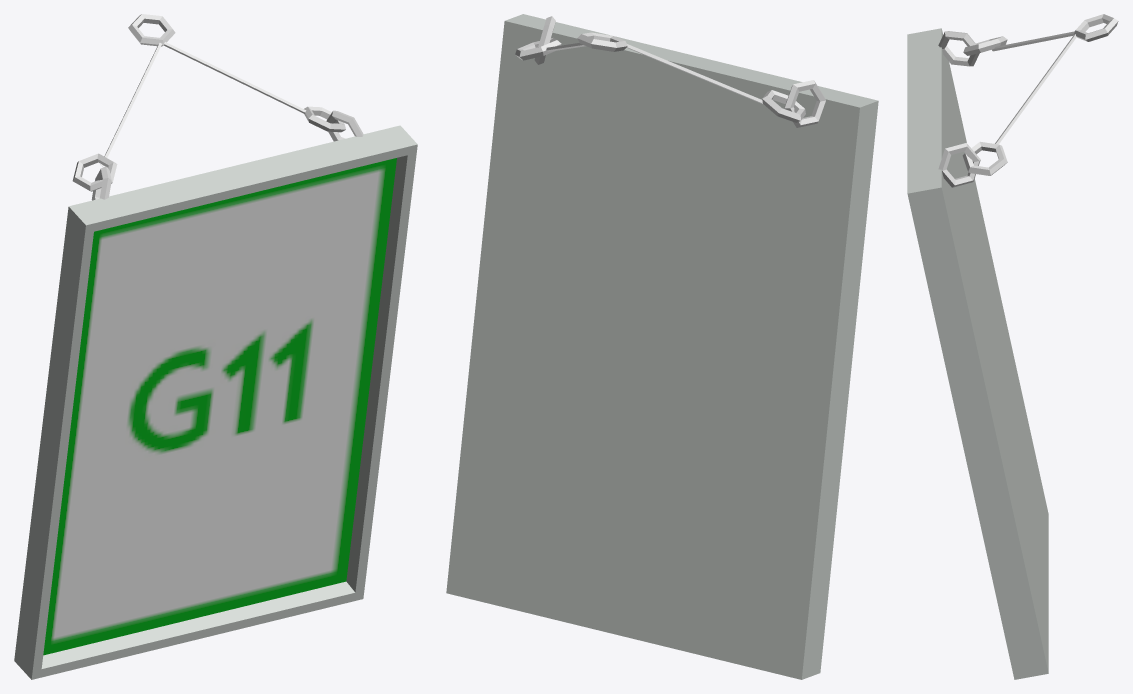
3 renders of one model, left to right at view 1: azimuth 30°, elevation 25°; view 2: azimuth 150°, elevation 25°; view 3: azimuth 270°, elevation 25°, orthographic. The views are drawn at different scales.
Visible parts, largest first — view 1: G11; view 2: G11; view 3: G11.
Part boxes in pixels (x1,y1,x2,y2): G11: (14, 14, 417, 679); G11: (446, 14, 878, 679); G11: (907, 14, 1118, 679).
Size of the model in its own units: 200 by 606 by 357.
